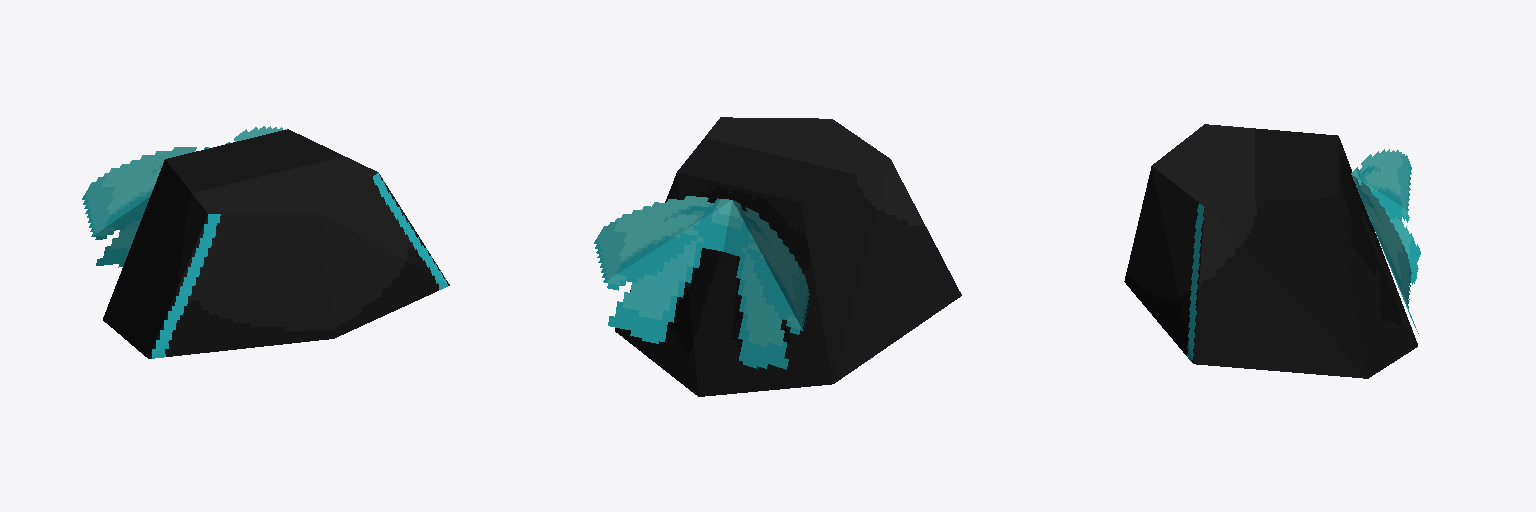
The picture shows the model from 3 angles: view 1: azimuth 30°, elevation 25°; view 2: azimuth 150°, elevation 25°; view 3: azimuth 270°, elevation 25°; orthographic projection.
Visible parts, largest first — view 1: 03_HIPS; view 2: 03_HIPS; view 3: 03_HIPS.
Boxes of the visible parts, <box> form: 03_HIPS: <box>82,126,449,358</box>; 03_HIPS: <box>594,117,961,396</box>; 03_HIPS: <box>1124,124,1420,378</box>.
Size of the model in its own units: 0.3476 by 0.199 by 0.3108.
1 materials, 1 textured.